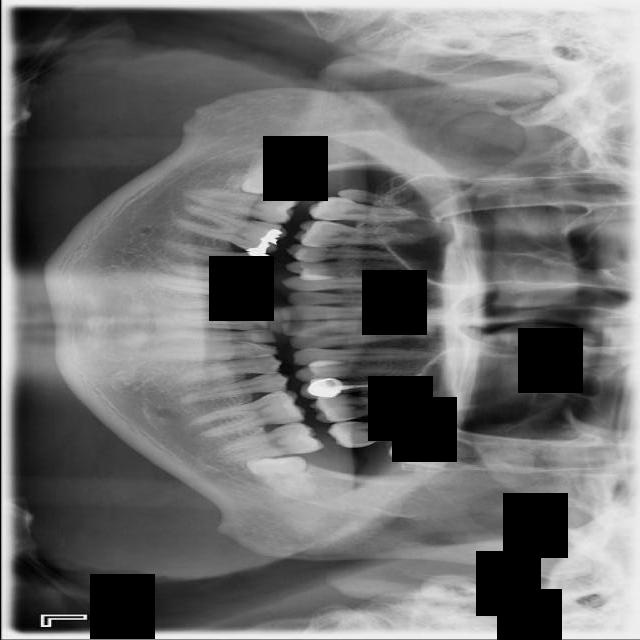3M ESPE Implant: (337, 189, 412, 206)
52: (239, 220, 286, 253), (298, 376, 341, 401), (233, 249, 274, 273)
73: (329, 369, 405, 398), (66, 581, 86, 595)
BioHorizons Implant: (323, 420, 440, 448)
BioLife Implant: (387, 430, 458, 472)
Biomet 3i Implant: (244, 455, 316, 500)
Blue Sky Bio Implant: (209, 419, 323, 467)
Caries: (305, 196, 416, 224)
Implant: (182, 177, 300, 228)
Keystone Dental Implant: (239, 152, 306, 195)
